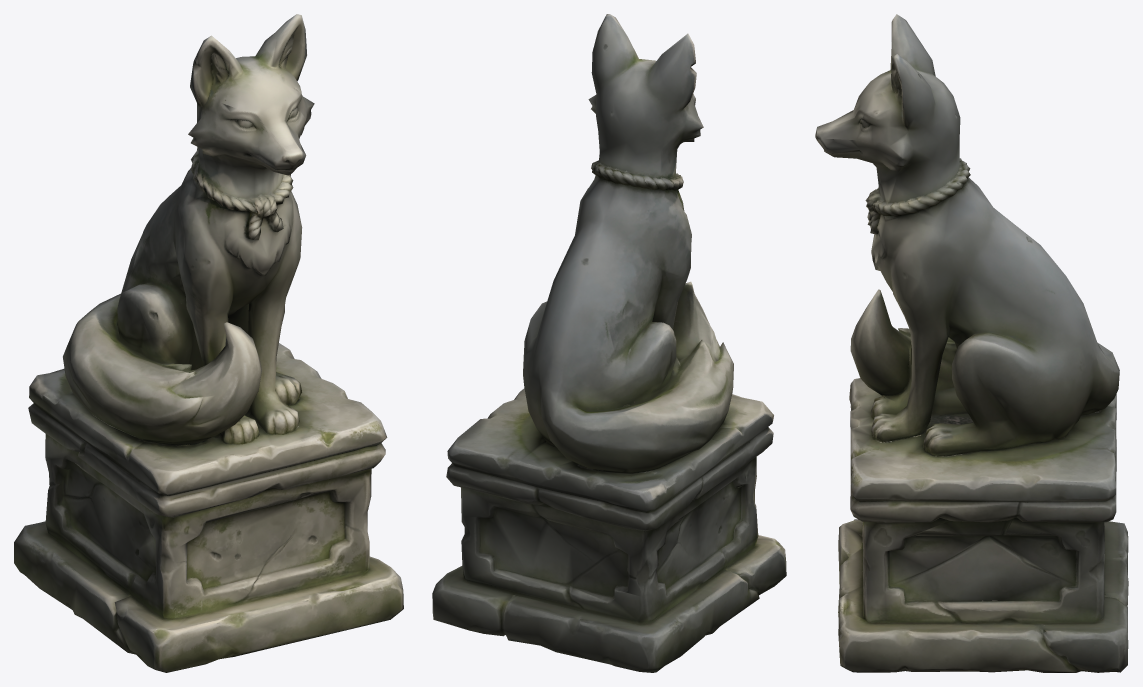
Rendered from FoxGuardian.gltf.
3 views of the same model, side by side, from view 1: azimuth 30°, elevation 25°; view 2: azimuth 150°, elevation 25°; view 3: azimuth 270°, elevation 25° (orthographic). The views are drawn at different scales.
Visible parts, largest first — view 1: lo; view 2: lo; view 3: lo.
Part boxes in pixels (x1,y1,x2,y2): lo: (14,14,403,672); lo: (432,14,786,672); lo: (815,14,1128,672).
Bounding box in the file's own units: 0.9251 × 2.12 × 1.04.
Materials: 1 (1 with a texture image).
